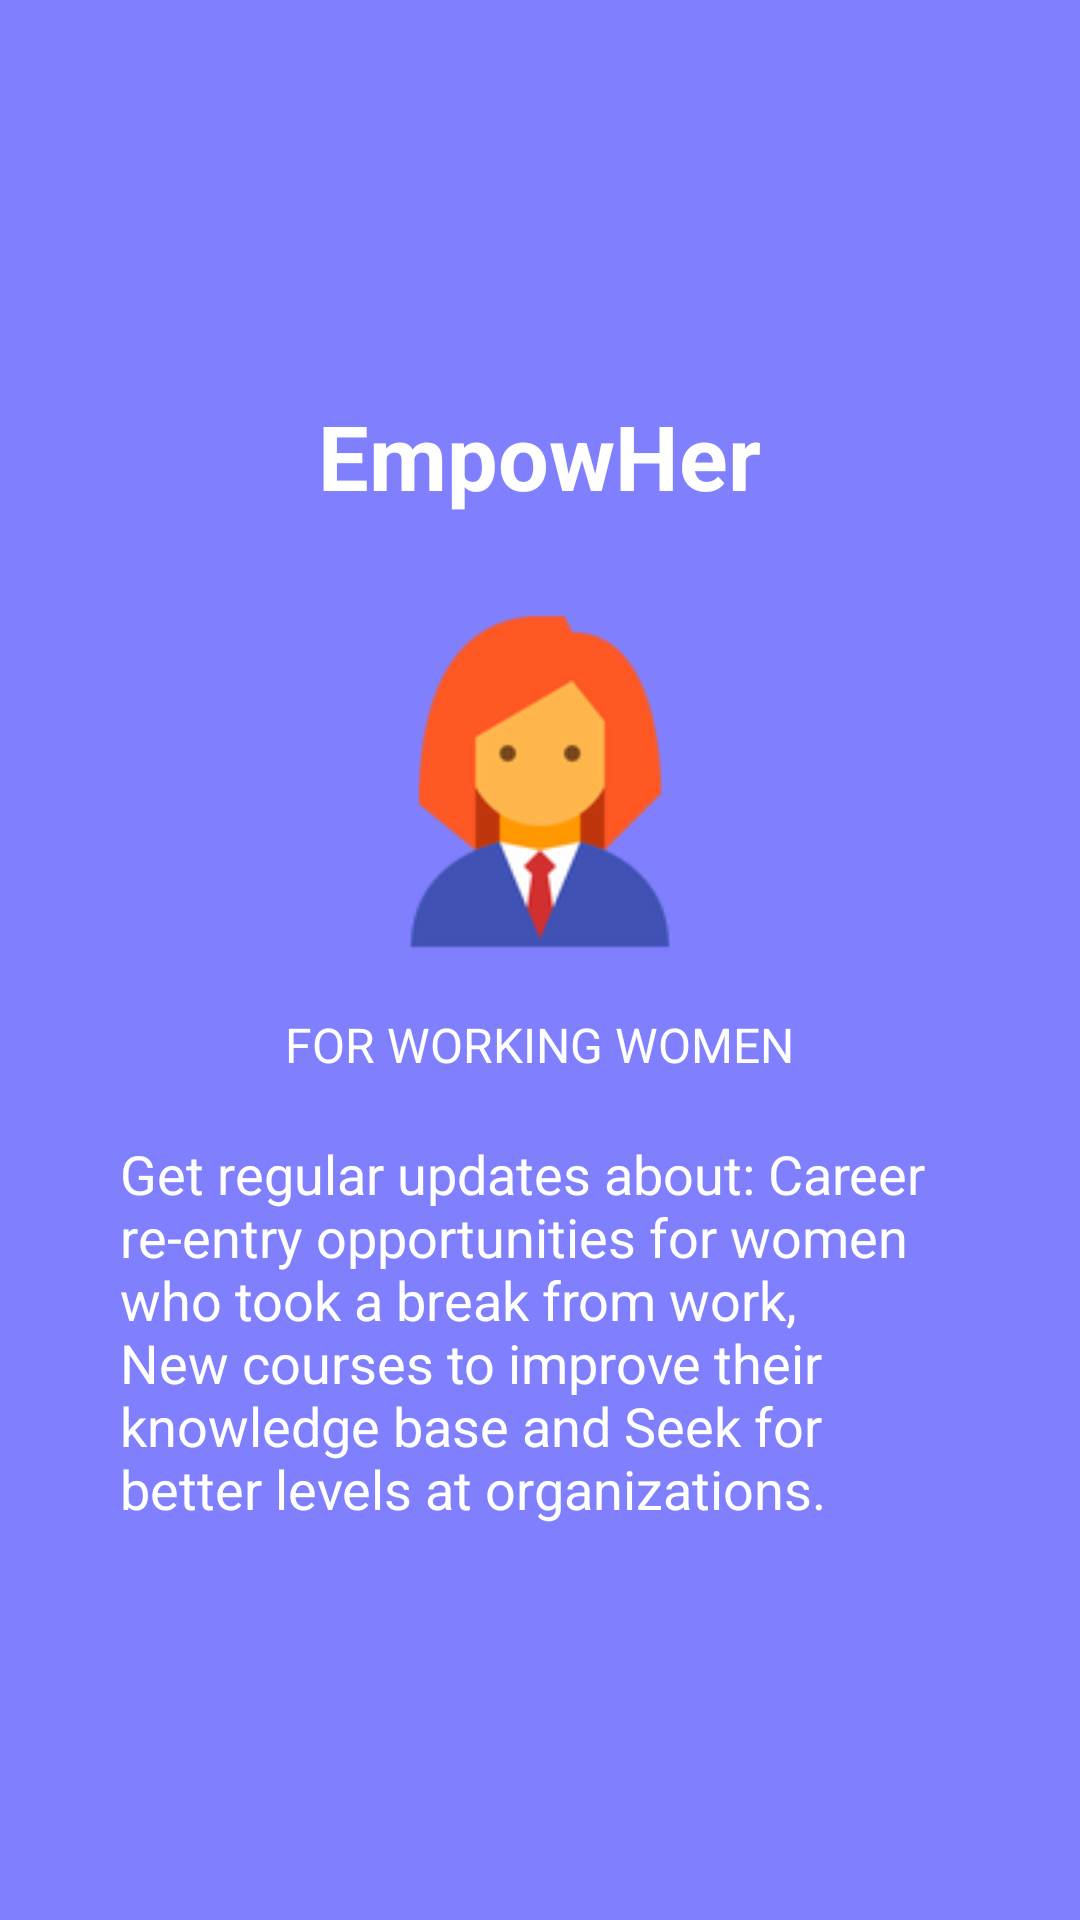

Where icons sit on this 1080px x 1920px app screen, as (x1, y1, x2, y2):
Woman Image: (410, 615, 670, 947)
